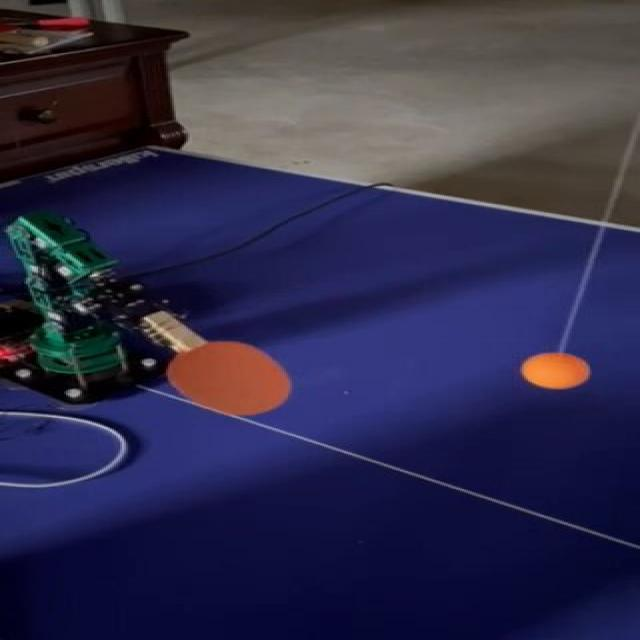ping-pong-ball: (522, 352, 584, 388)
